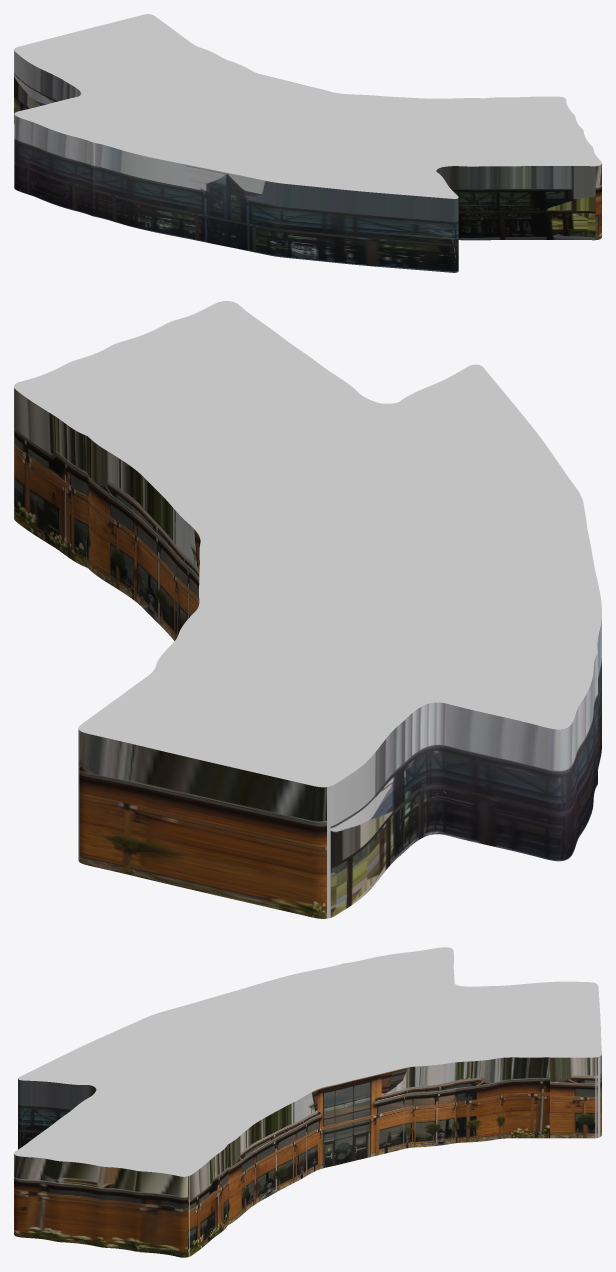
File: WelcomeCenter.glb
3 views of the same model, one above another, from view 1: azimuth 30°, elevation 25°; view 2: azimuth 150°, elevation 25°; view 3: azimuth 270°, elevation 25° (orthographic). The views are drawn at different scales.
Visible parts, largest first — view 1: Curve.002, Curve.004, Curve.003; view 2: Curve.002, Curve.004, Curve.005, Curve.001; view 3: Curve.002, Curve.001, Curve.003, Curve.004.
Boxes of the visible parts, left/top/right/bottom form: Curve.002: left=14, top=14, right=601, bottom=198; Curve.004: left=14, top=50, right=595, bottom=272; Curve.003: left=595, top=164, right=601, bottom=239; Curve.002: left=14, top=301, right=601, bottom=918; Curve.004: left=330, top=618, right=601, bottom=917; Curve.005: left=79, top=730, right=326, bottom=918; Curve.001: left=14, top=388, right=200, bottom=640; Curve.002: left=14, top=947, right=601, bottom=1256; Curve.001: left=188, top=1057, right=597, bottom=1256; Curve.003: left=14, top=1154, right=187, bottom=1257; Curve.004: left=18, top=954, right=454, bottom=1149.
Size of the model in its own units: 2.59 by 0.4255 by 2.8.
5 materials, 4 textured.
